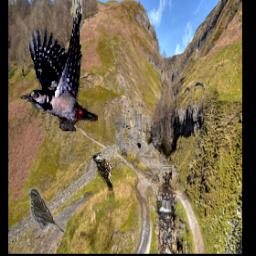Sparrow: (27, 187, 65, 240)
Woodpecker: (19, 0, 99, 131), (93, 152, 118, 191)
